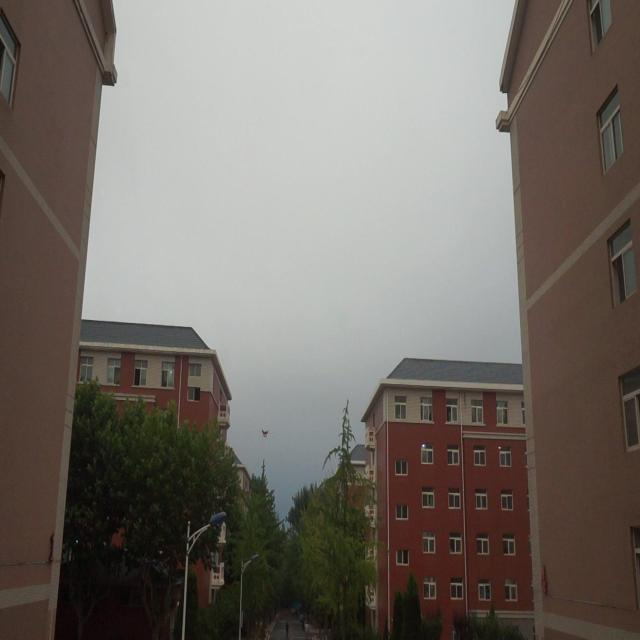drone: (259, 424, 271, 440)
